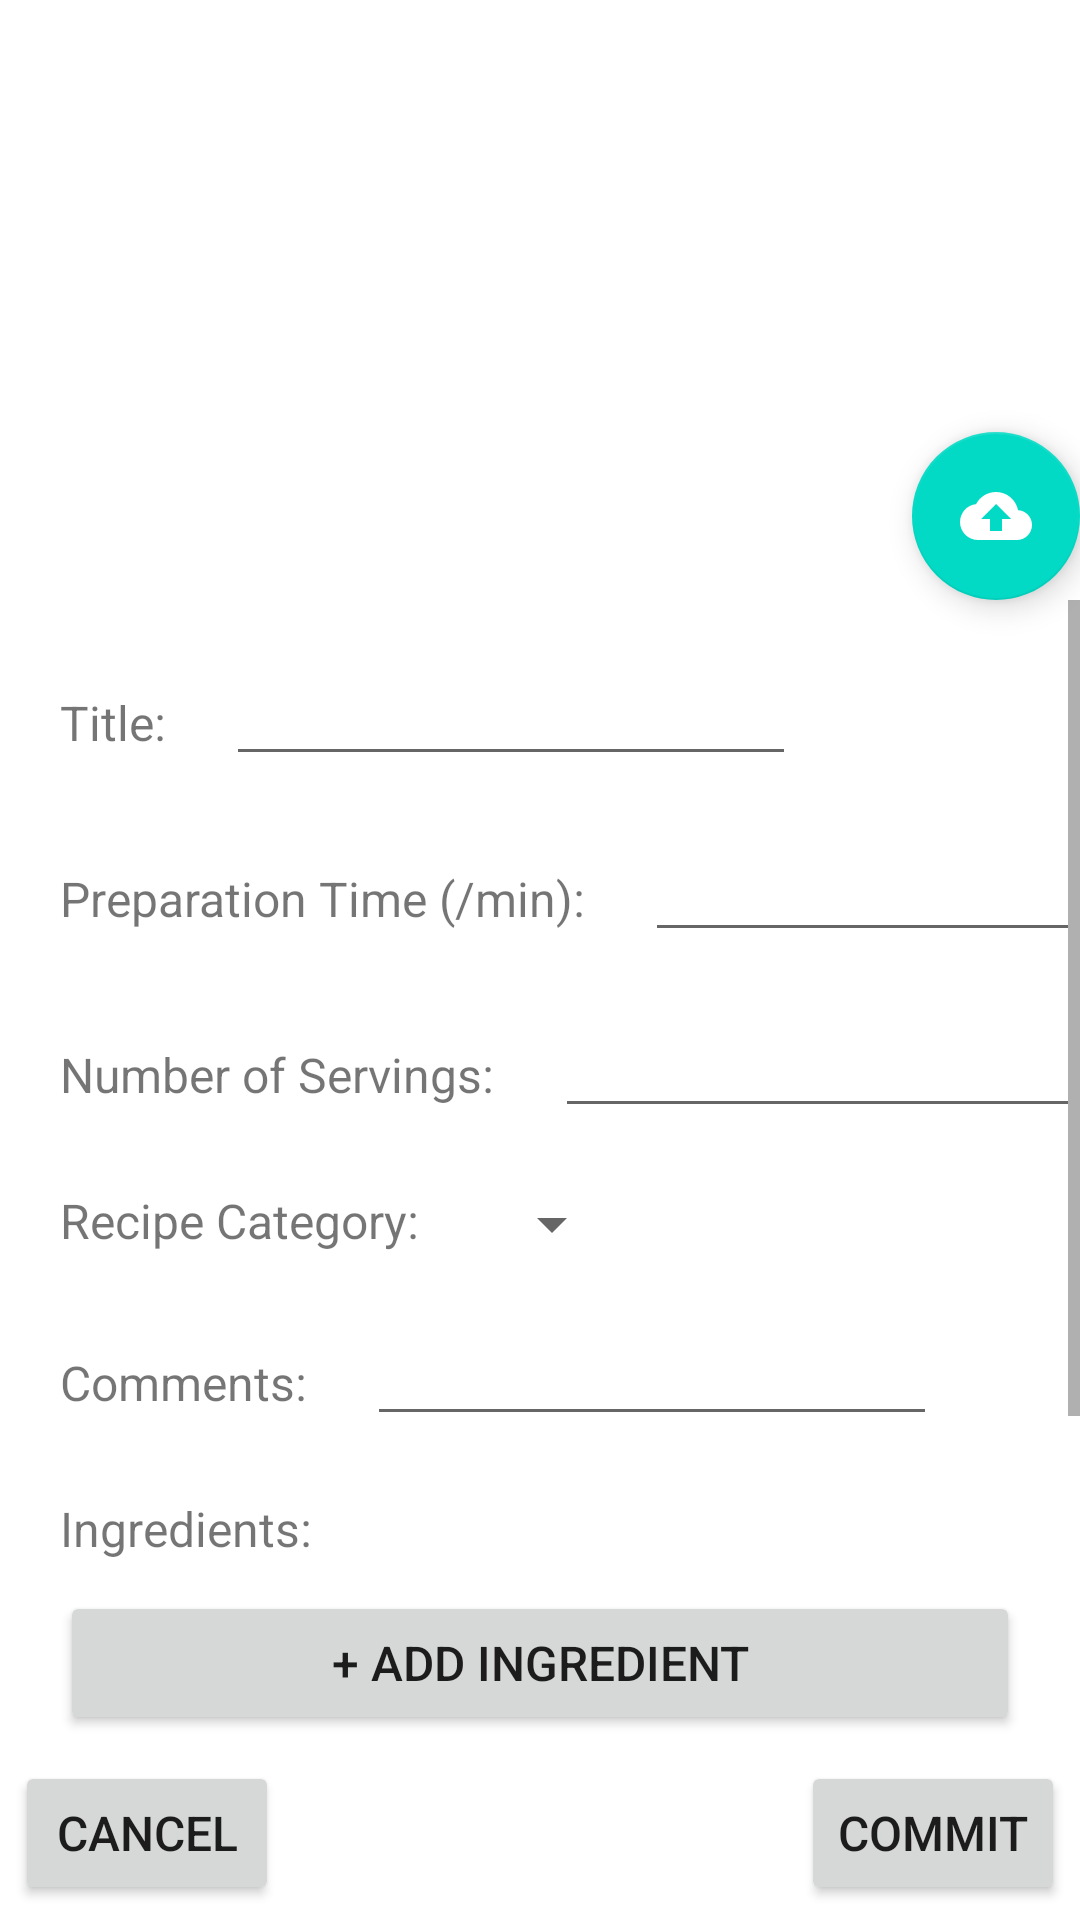

Icon click points for this 1080x1920 phone screenshot, format point (x, y):
cloud upload: point (996, 516)
